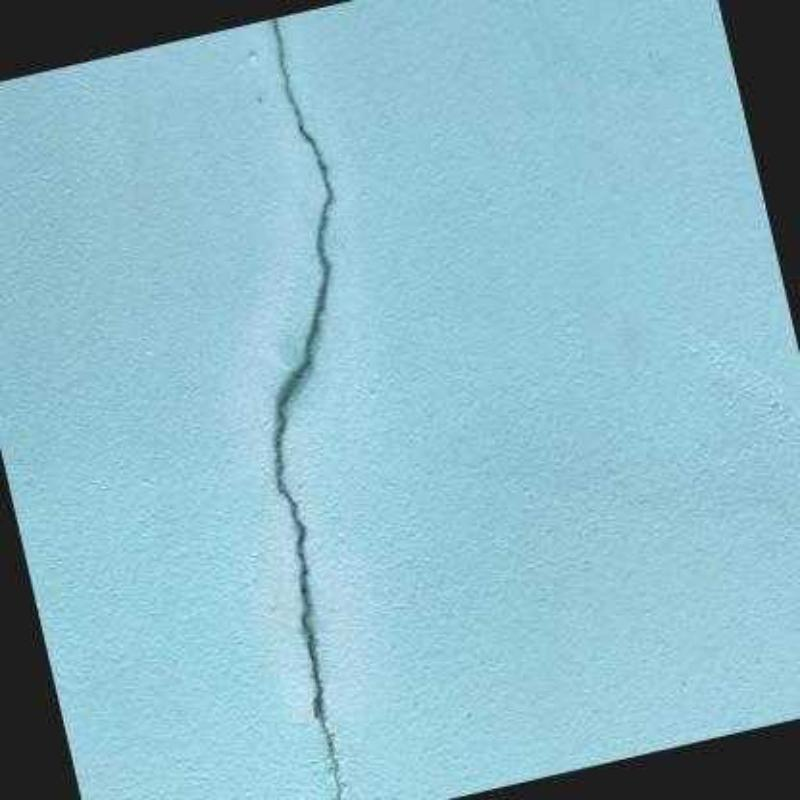crack: (271, 18, 344, 800)
